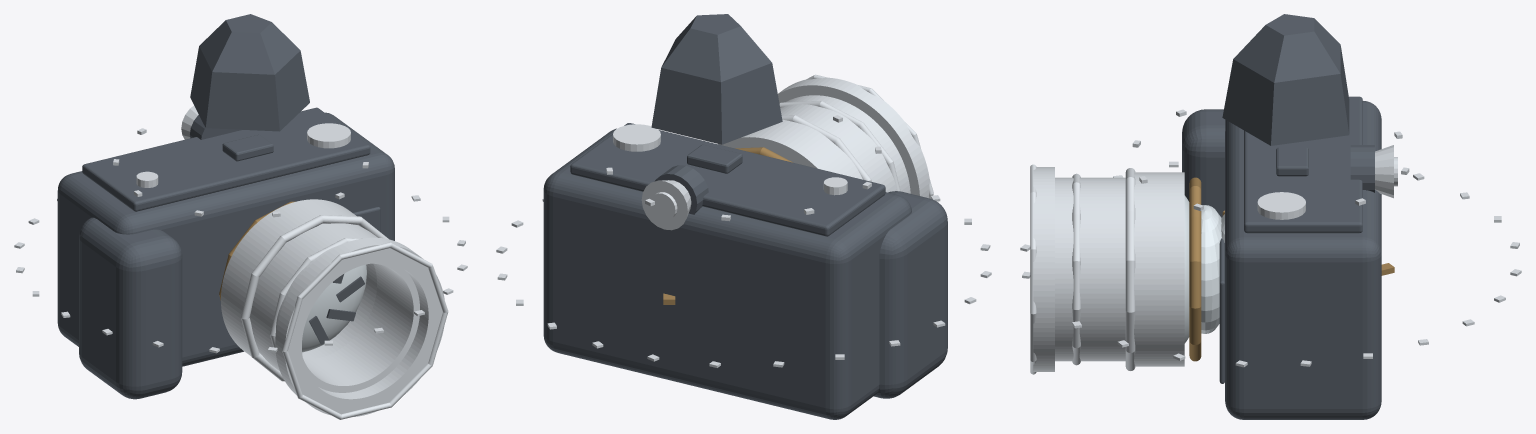
The model's file is camera.glb.
3 views of the same model, side by side, from view 1: azimuth 30°, elevation 25°; view 2: azimuth 150°, elevation 25°; view 3: azimuth 270°, elevation 25° (orthographic). The views are drawn at different scales.
Parts seen in each view (by area): view 1: body, lens_barrel, pentaprism, front_element, shutter_dial, aperture; view 2: body, pentaprism, lens_barrel, shutter_dial, viewfinder; view 3: body, lens_barrel, pentaprism, mount, lens_group, shutter_dial, viewfinder, front_element.
Boxes of the visible parts, x1,y1,x2,y2 form: body: (57, 107, 394, 399); lens_barrel: (14, 195, 467, 419); pentaprism: (190, 14, 309, 161); front_element: (302, 264, 366, 352); shutter_dial: (113, 123, 368, 217); aperture: (309, 274, 364, 344); body: (543, 123, 947, 419); pentaprism: (651, 14, 782, 214); lens_barrel: (496, 74, 991, 367); shutter_dial: (606, 115, 881, 221); viewfinder: (641, 180, 691, 230); body: (1182, 96, 1381, 419); lens_barrel: (1020, 161, 1521, 374); pentaprism: (1222, 14, 1374, 192); mount: (1189, 177, 1394, 361); lens_group: (1201, 205, 1224, 333); shutter_dial: (1132, 109, 1409, 219); viewfinder: (1375, 145, 1397, 198); front_element: (1184, 195, 1189, 343).
Size of the model in its own units: 1.86 by 1.39 by 1.86.
